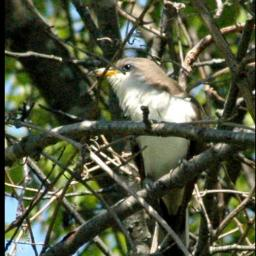Cuckoo: (86, 56, 210, 256)
